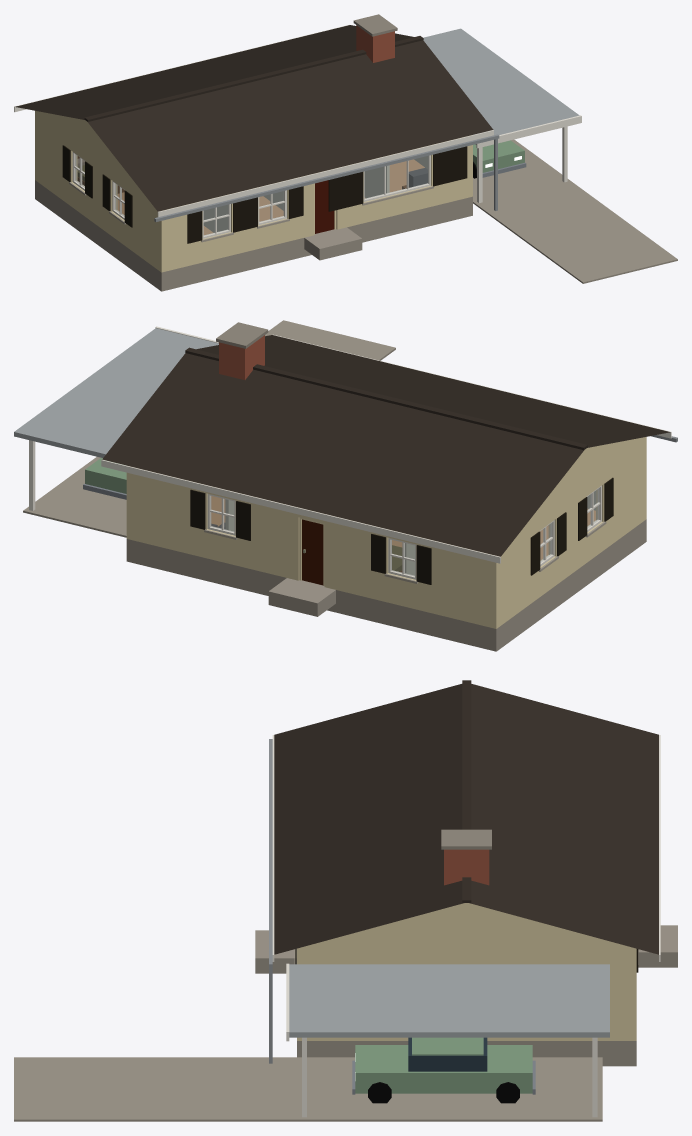
Rendered from ranch_b.glb.
3 renders of one model, top to bottom at view 1: azimuth 30°, elevation 25°; view 2: azimuth 150°, elevation 25°; view 3: azimuth 270°, elevation 25°, orthographic. The views are drawn at different scales.
Visible parts, largest first — view 1: LOD0, LEAF0, FURN; view 2: LOD0, LEAF1; view 3: LOD0.
Boxes of the visible parts, <box> form: LOD0: <box>14,14,677,291</box>; LEAF0: <box>315,180,334,233</box>; FURN: <box>77,156,427,193</box>; LOD0: <box>14,320,677,651</box>; LEAF1: <box>302,519,323,585</box>; LOD0: <box>14,680,677,1121</box>.
Size of what is drawn, in the model's own units: 17.78 by 6.03 by 17.6.
